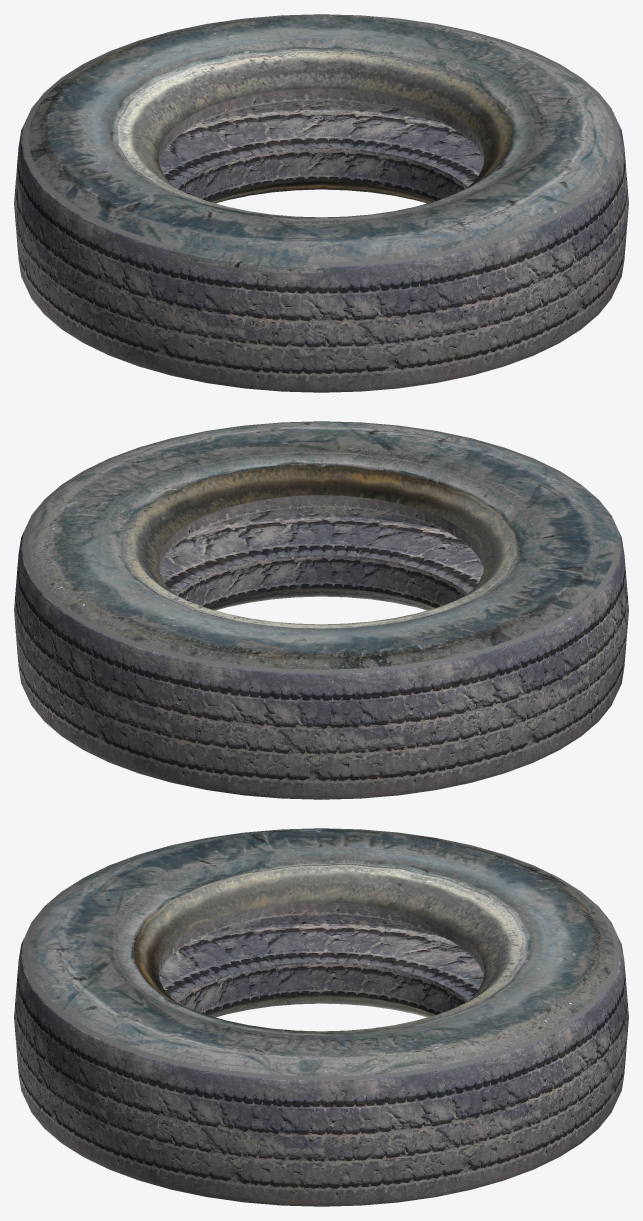
Rendered from wheel02.fbx.
3 views of the same model, one above another, from view 1: azimuth 30°, elevation 25°; view 2: azimuth 150°, elevation 25°; view 3: azimuth 270°, elevation 25° (orthographic).
Parts seen in each view (by area): view 1: Mesh; view 2: Mesh; view 3: Mesh.
Boxes of the visible parts, x1,y1,x2,y2 form: Mesh: (14, 14, 628, 392); Mesh: (14, 421, 628, 799); Mesh: (14, 828, 628, 1206).
Bounding box in the file's own units: 100 × 26.05 × 100.
